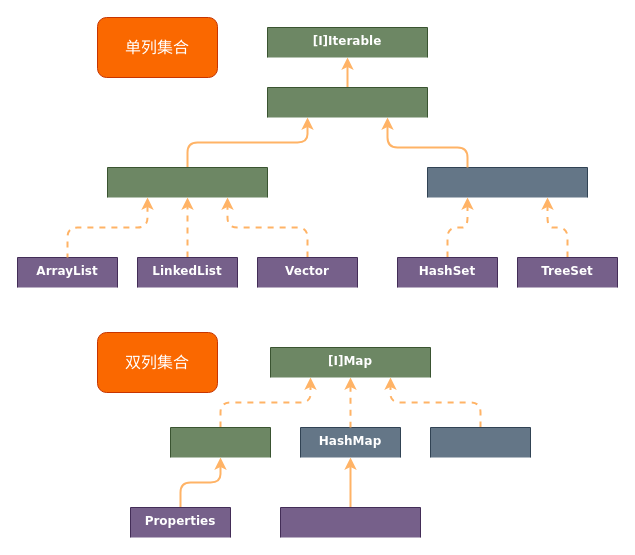
Some shapes in this 635 by 555 pixel diagram are drawn without their labels. The box of each missing label's shape, as (x1, y1, x2, y2) in pixels:
[I]Collection: (266, 86, 428, 118)
[I]List: (106, 166, 268, 198)
[I]Set: (426, 166, 588, 198)
Hashtable: (170, 426, 270, 458)
LinkedHashMap: (280, 506, 420, 538)
TreeMap: (430, 426, 530, 458)
